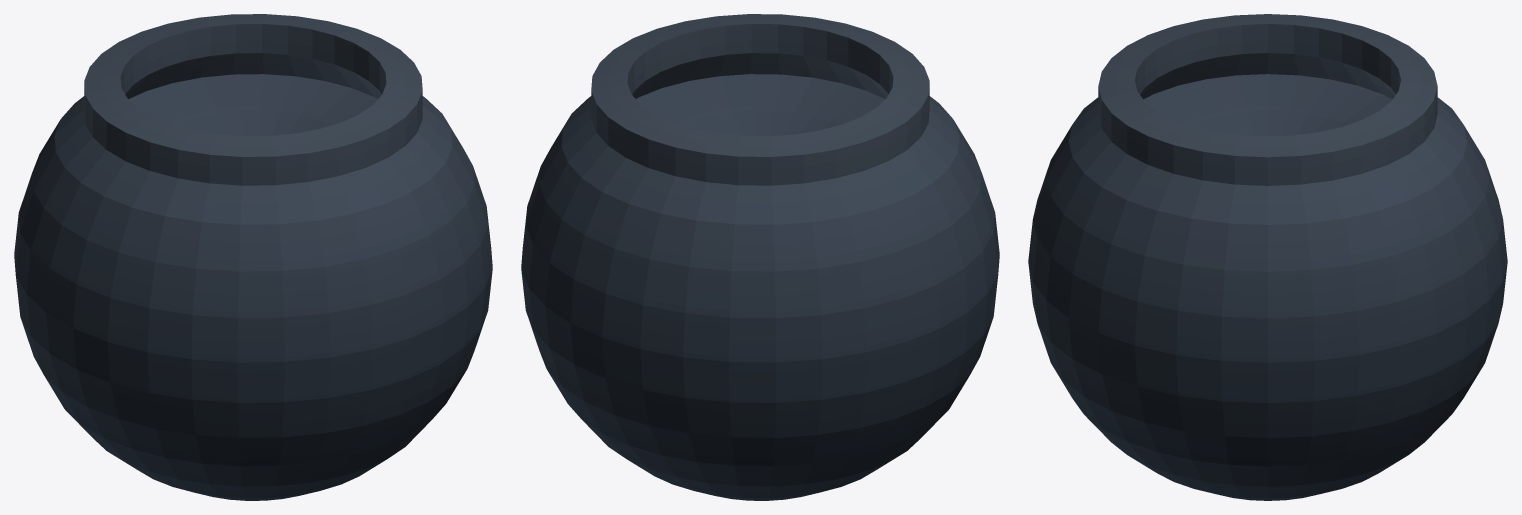
Rendered from LePot (2).fbx.
3 views of the same model, side by side, from view 1: azimuth 30°, elevation 25°; view 2: azimuth 150°, elevation 25°; view 3: azimuth 270°, elevation 25° (orthographic).
Parts seen in each view (by area): view 1: Pot; view 2: Pot; view 3: Pot.
Boxes of the visible parts, box(x1,y1,x2,y2) form: Pot: box(14, 14, 492, 500); Pot: box(521, 14, 999, 500); Pot: box(1028, 14, 1507, 500).
Bounding box in the file's own units: 200 × 183 × 200.
